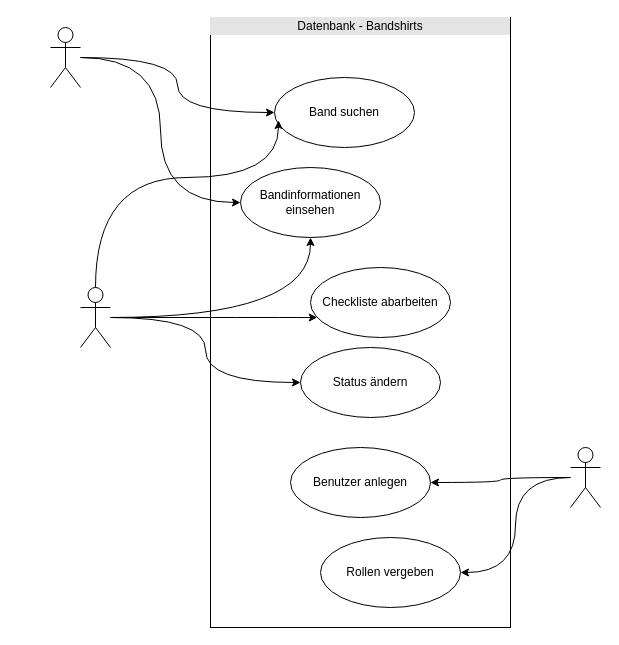
The diagram is 619 pixels wide and 645 high, and some of its shapes have lost their labels. The shapes that lost their labels are listed below. From the top down, each one's box as (x1, y1, x2, y2) in pixels, then its label:
(50, 26, 80, 88): User (Leserechte)
(80, 286, 110, 348): User (Schreibrechte)
(570, 446, 600, 508): Admin
